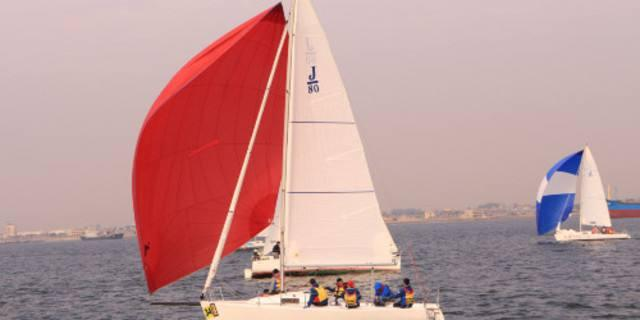fanchuan: (130, 2, 453, 319), (537, 145, 632, 246)
